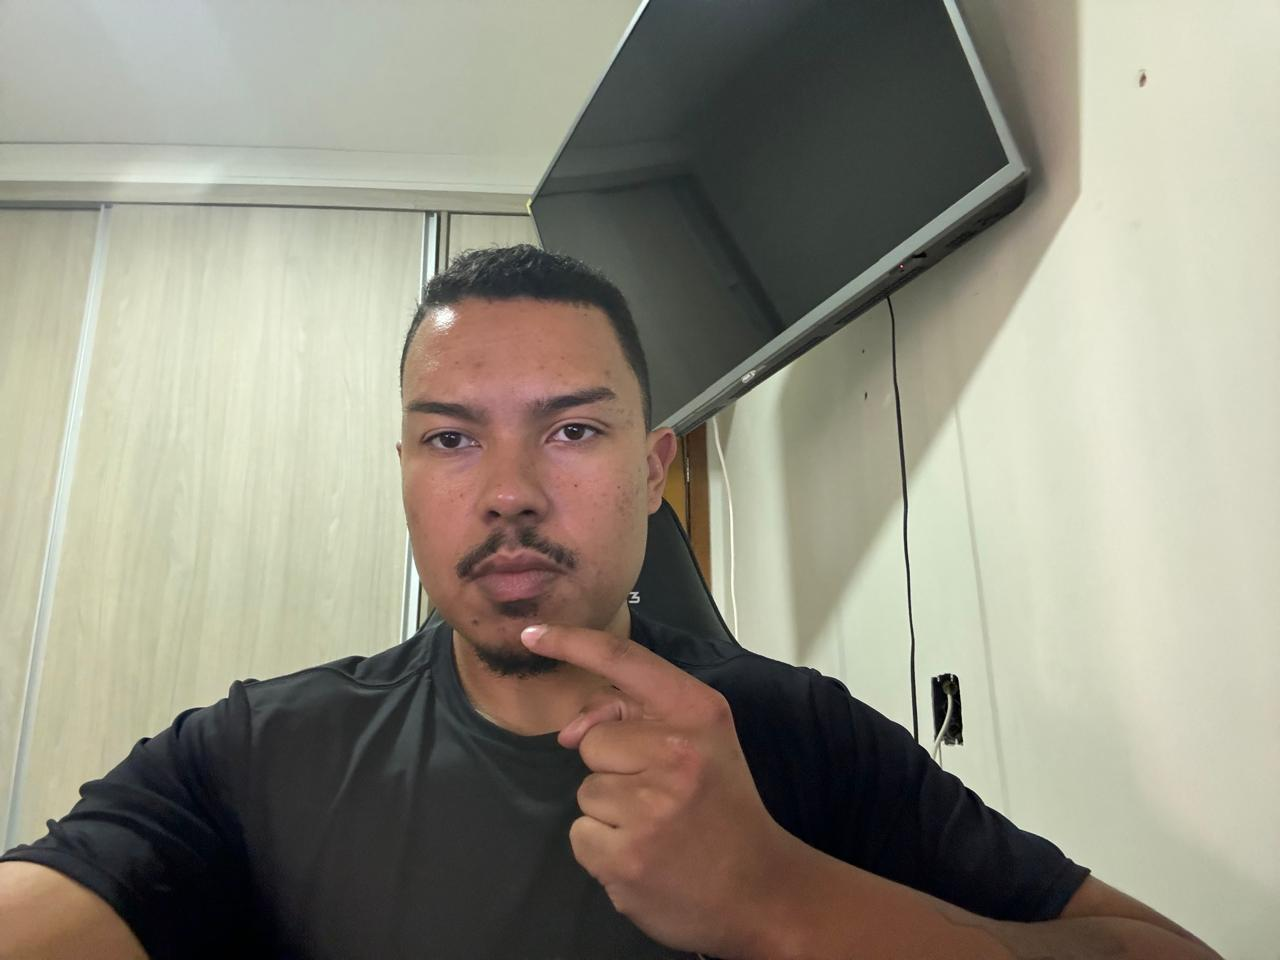x: (508, 610, 781, 959)
